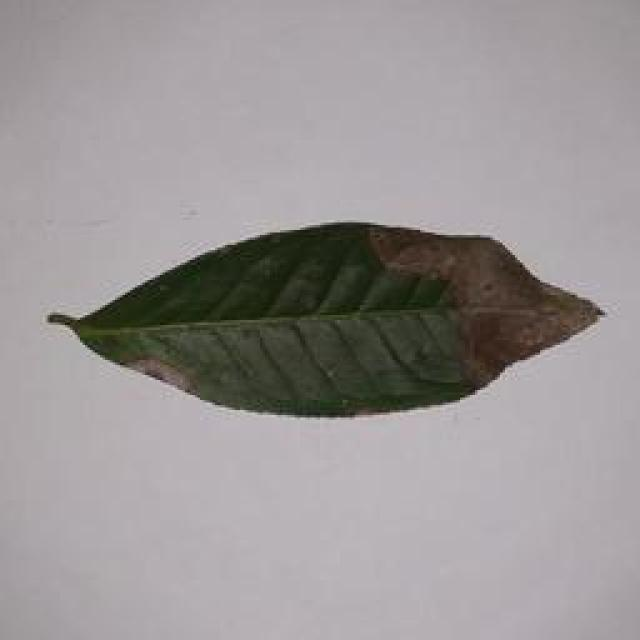Brown Blight: (43, 214, 619, 436)
